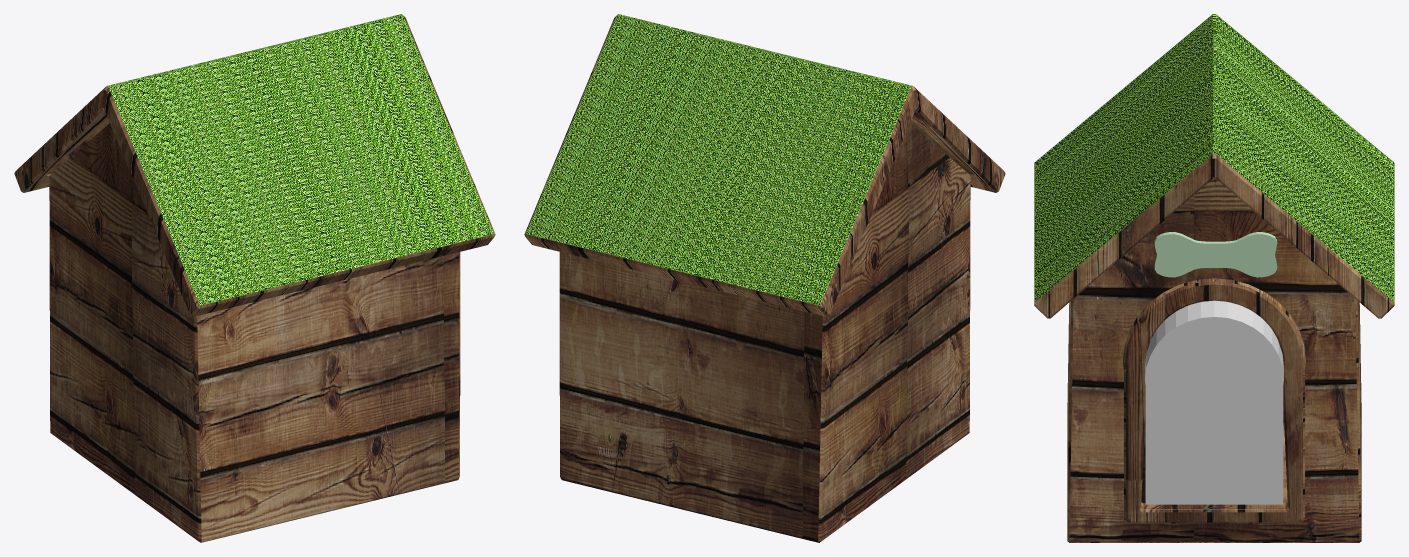
File: kulubekopek.fbx
The picture shows the model from 3 angles, left to right: view 1: azimuth 30°, elevation 25°; view 2: azimuth 150°, elevation 25°; view 3: azimuth 270°, elevation 25°; orthographic projection. The views are drawn at different scales.
Visible parts, largest first — view 1: Cube; view 2: Cube; view 3: Cube, Cube.001, Cube.002, Plane.
Boxes of the visible parts, x1,y1,x2,y2 form: Cube: (14, 14, 495, 542); Cube: (524, 14, 1005, 542); Cube: (1034, 14, 1394, 542); Cube.001: (1145, 380, 1283, 504); Cube.002: (1145, 300, 1283, 384); Plane: (1154, 232, 1277, 277).
Bounding box in the file's own units: 255 × 311 × 256.
Materials: 3 (2 with a texture image).
